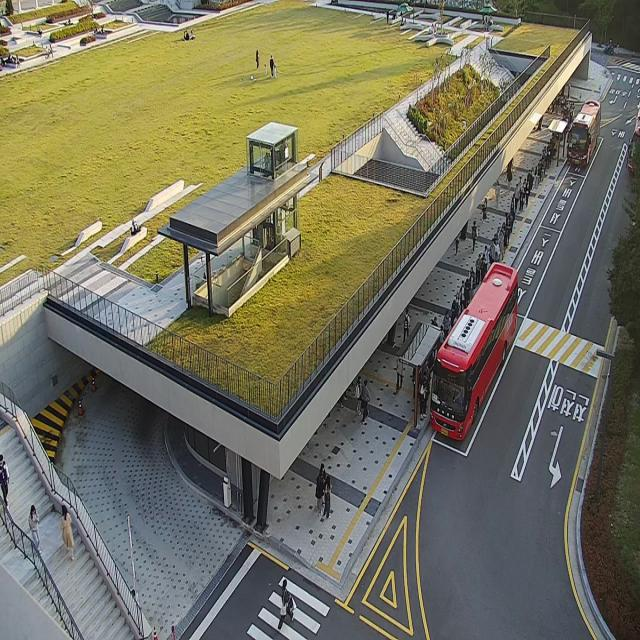queue: (415, 95, 575, 429)
